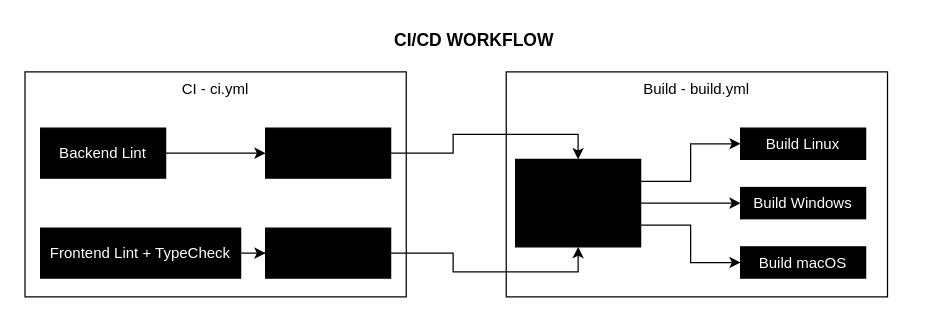
Image size: 926x319. Some labels were removed from this diagram. Each missing label, with the box of its shape:
Backend Tests: (264, 127, 391, 178)
CI Gate: (514, 158, 641, 247)
Frontend Tests: (264, 227, 391, 278)
